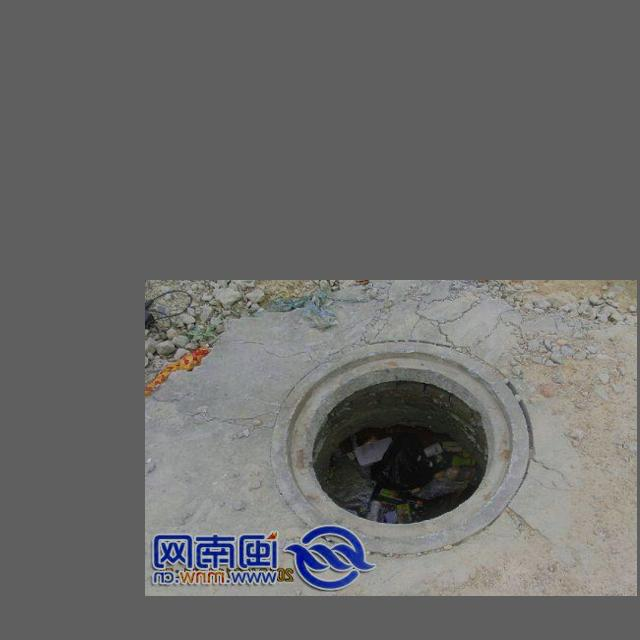lose: (266, 337, 531, 559)
